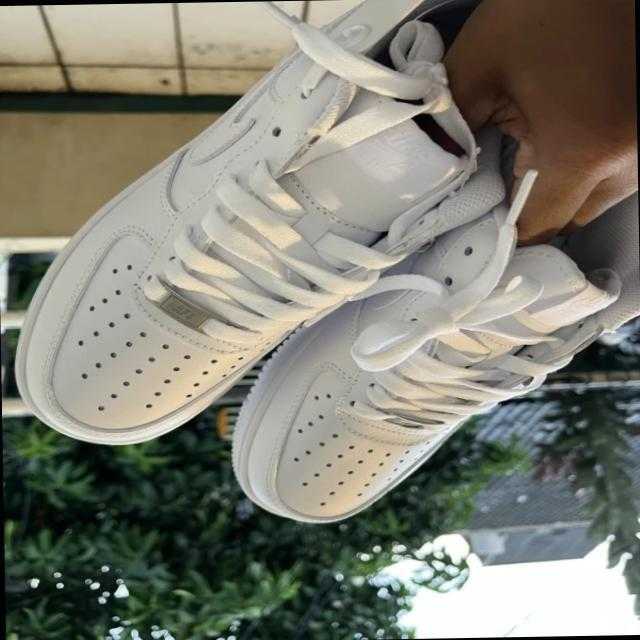nike original air force: (0, 0, 542, 447), (219, 177, 640, 525)
